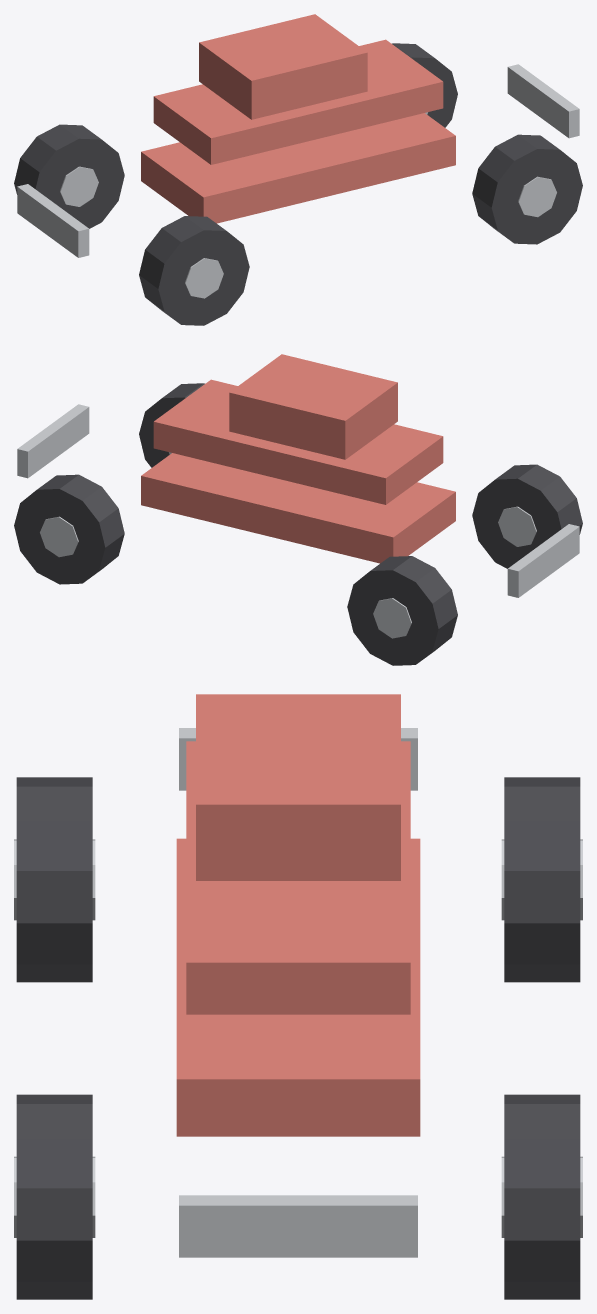
File: car.glb
The picture shows the model from 3 angles, top to bottom: view 1: azimuth 30°, elevation 25°; view 2: azimuth 150°, elevation 25°; view 3: azimuth 270°, elevation 25°; orthographic projection. The views are drawn at different scales.
Parts seen in each view (by area): view 1: Car; view 2: Car; view 3: Car.
Boxes of the visible parts, left/top/right/bottom form: Car: left=14, top=14, right=582, bottom=325; Car: left=14, top=354, right=582, bottom=665; Car: left=14, top=694, right=582, bottom=1299.
Size of the model in its own units: 4.17 by 1.5 by 2.1.
